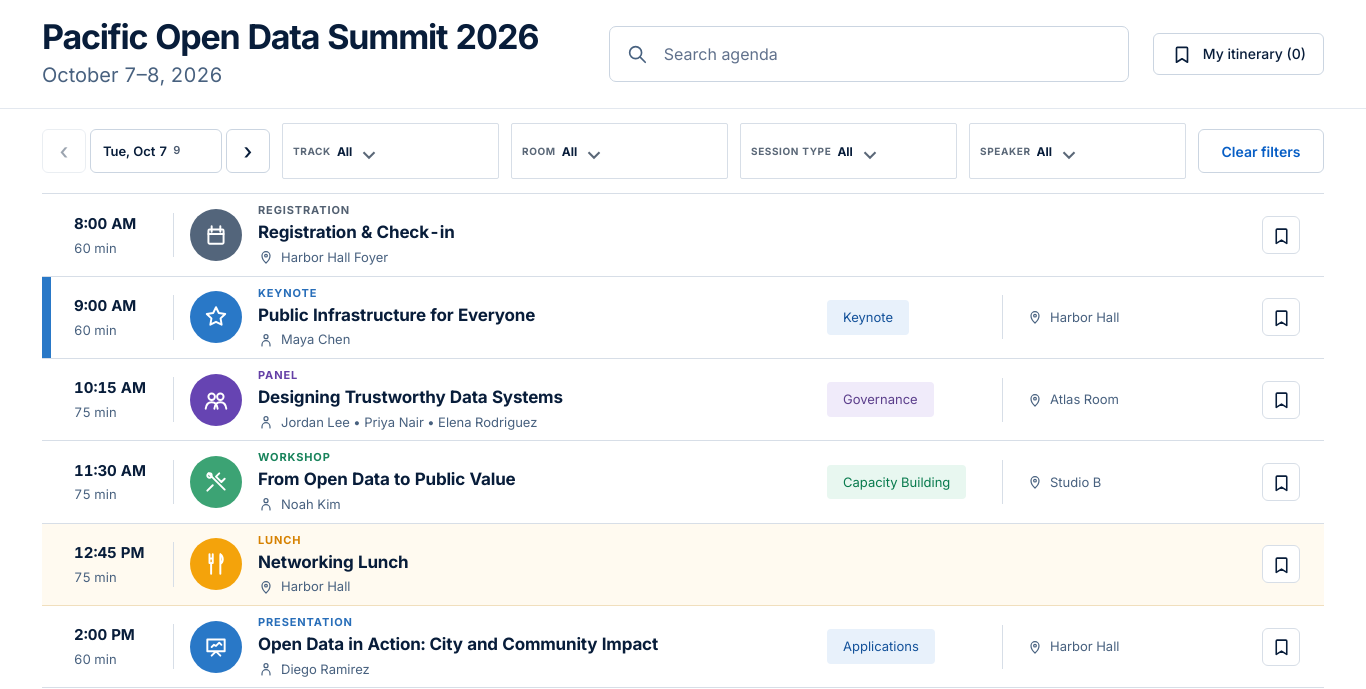
functional public agenda › places sessions by real duration without collision and filters the grid
This screenshot has width=1366, height=689.
Click the dropdown labelled "Track" at (390, 151), box [282,123,499,179]
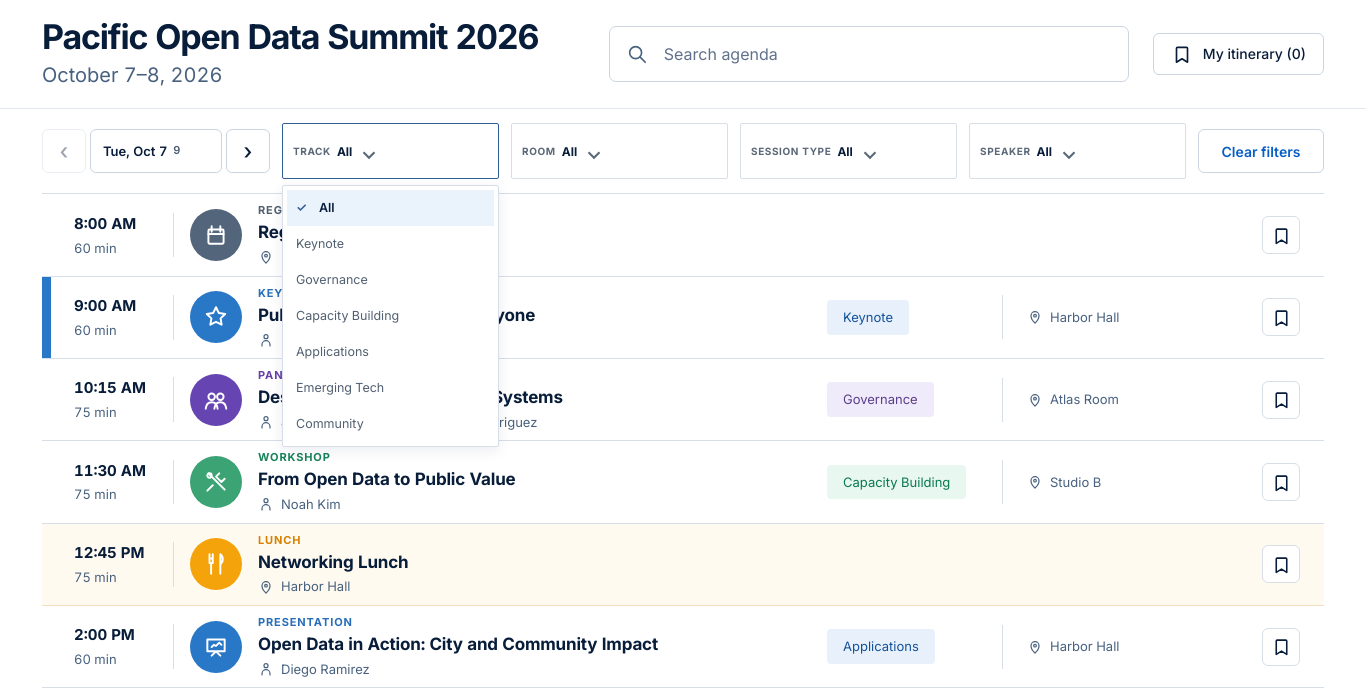
Click the option "Capacity Building" at (348, 315), box [296,308,399,323]
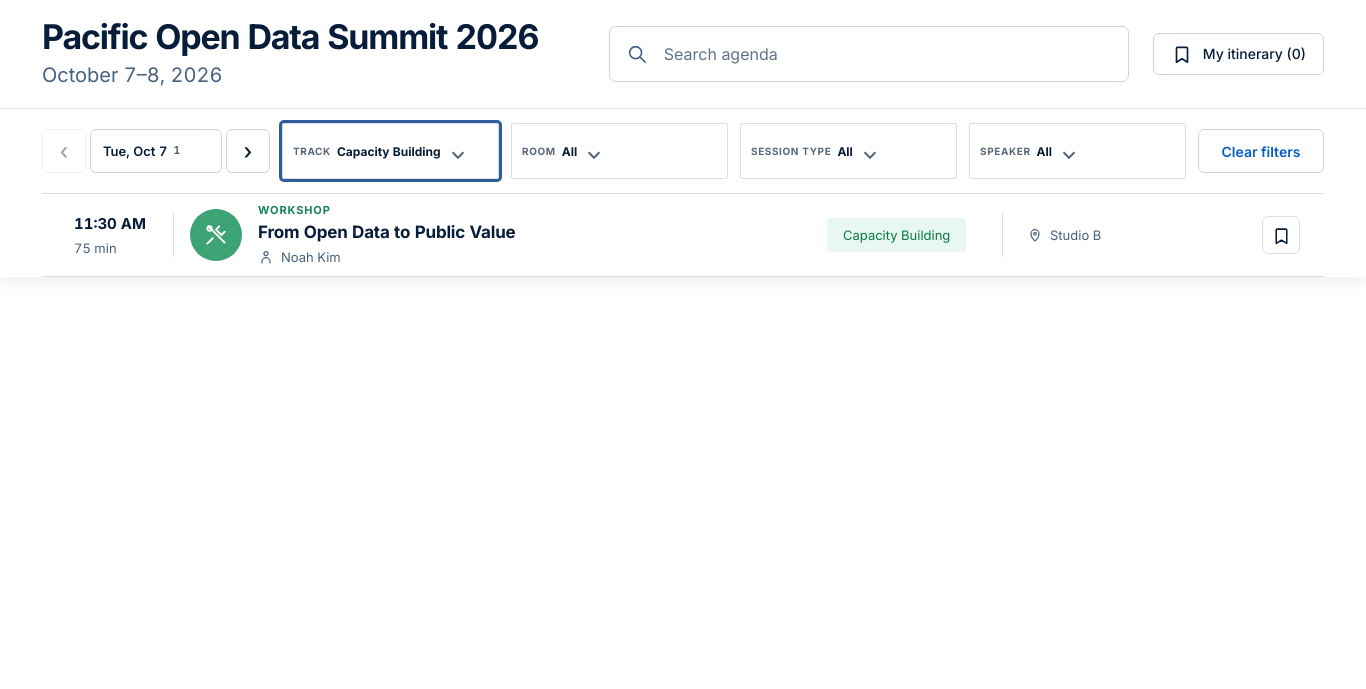
Check: the heading "From Open Data to Public Value" is shown, box [258,222,516,242]
Check: the dropdown labelled "Track" is collapsed, box [282,123,499,179]
Check: the heading "Public Infrastructure for Everyone" is gone
Click the button "Clear filters" at (1261, 151), box [1198,129,1324,173]
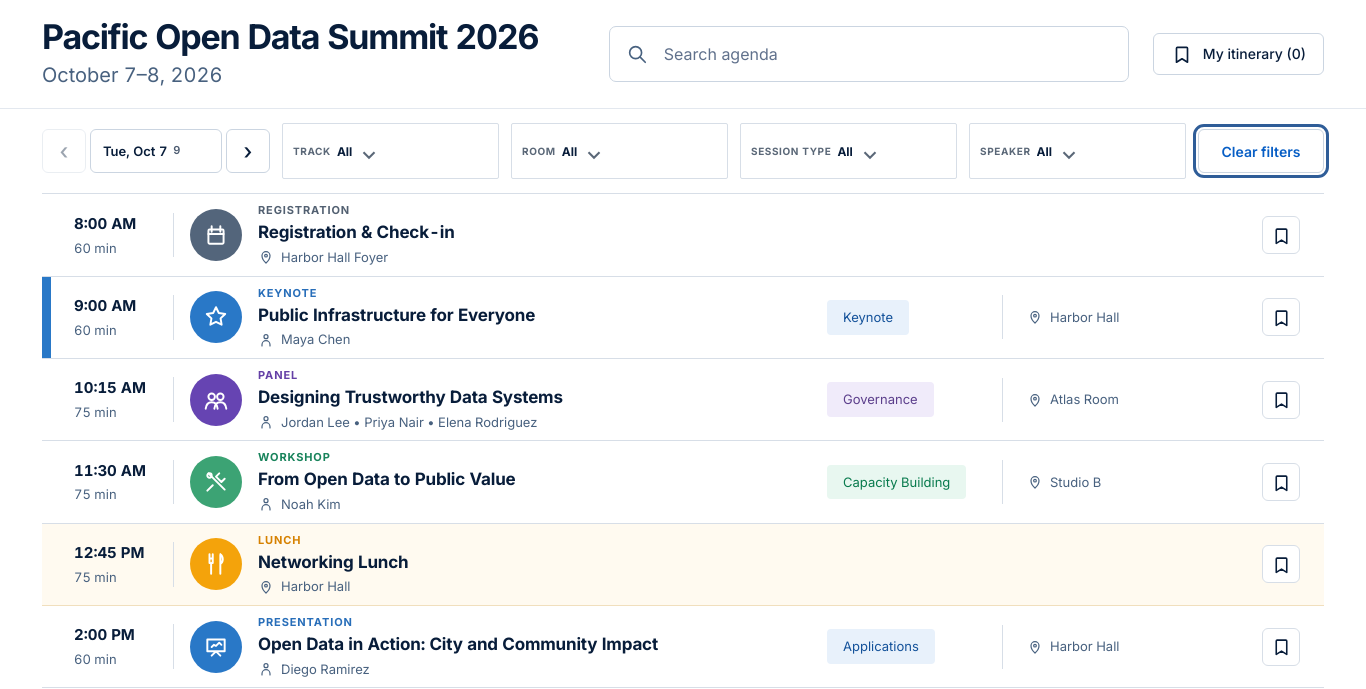
Check: the heading "Public Infrastructure for Everyone" is shown, box [258,305,535,325]
